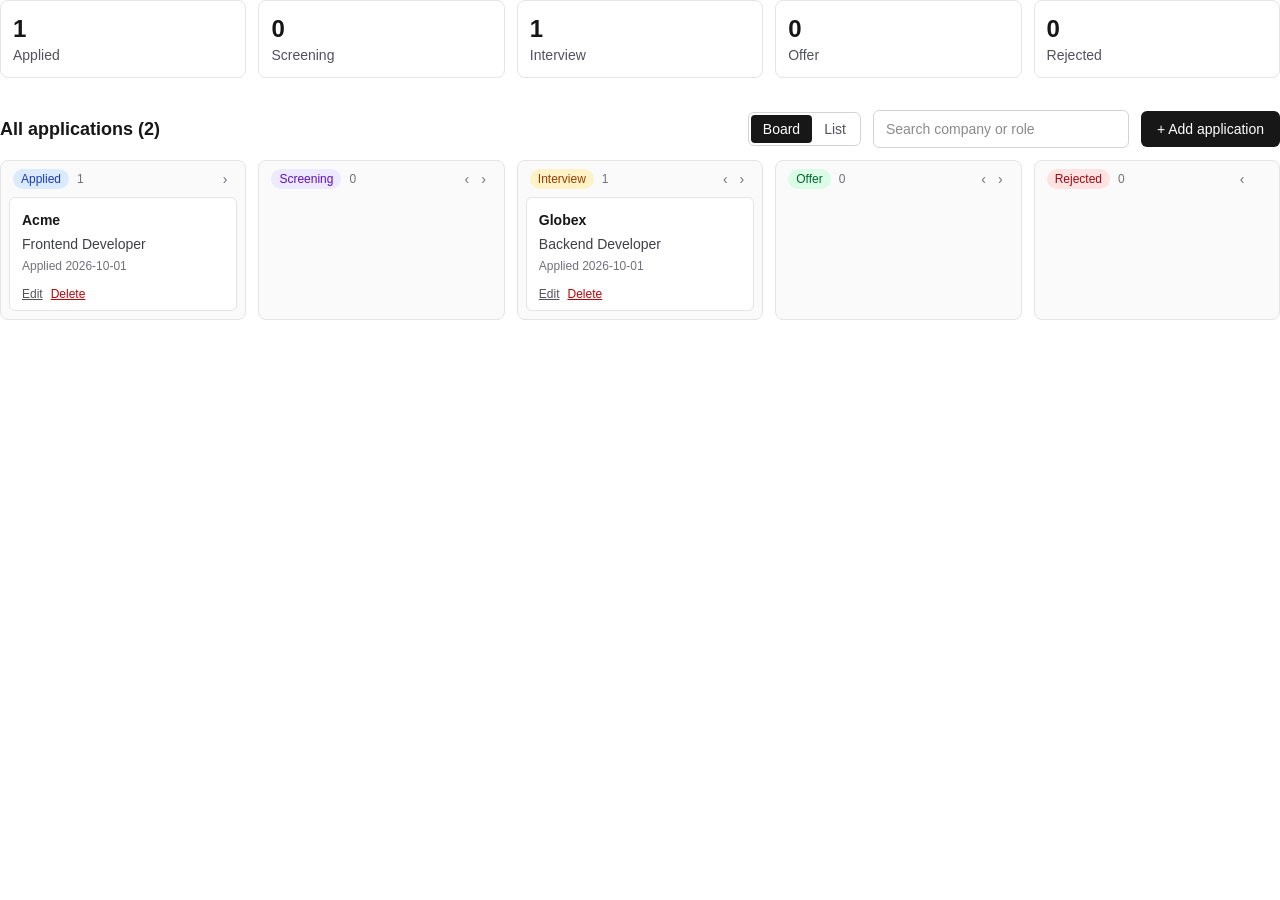
it: Fill from link › fills only the fields that are still empty
Click the button "+ Add application" at (1210, 129), box [1141,111,1279,147]
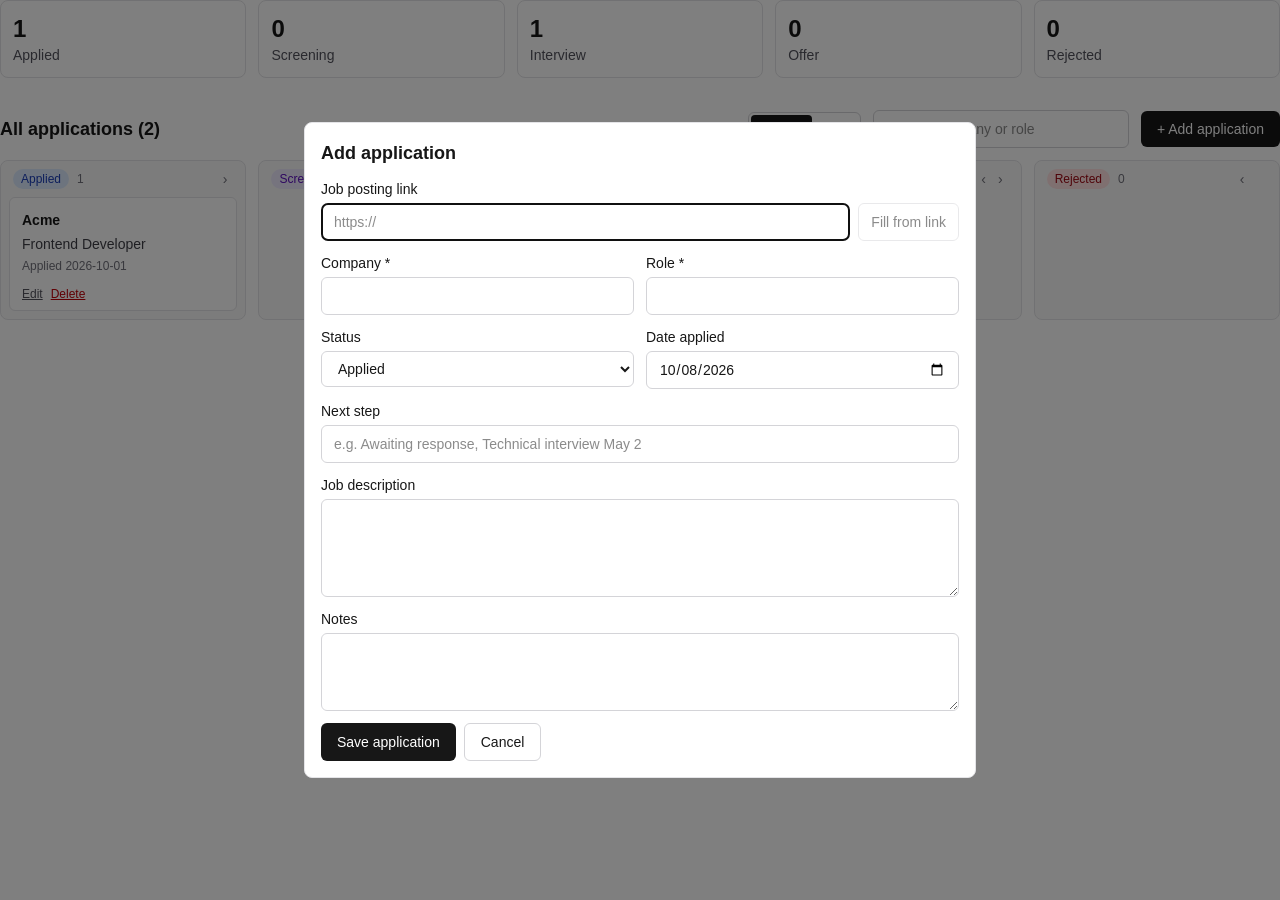
Type "My own name for it" into the field labelled "Company *" at (478, 296), box [321,277,634,315]
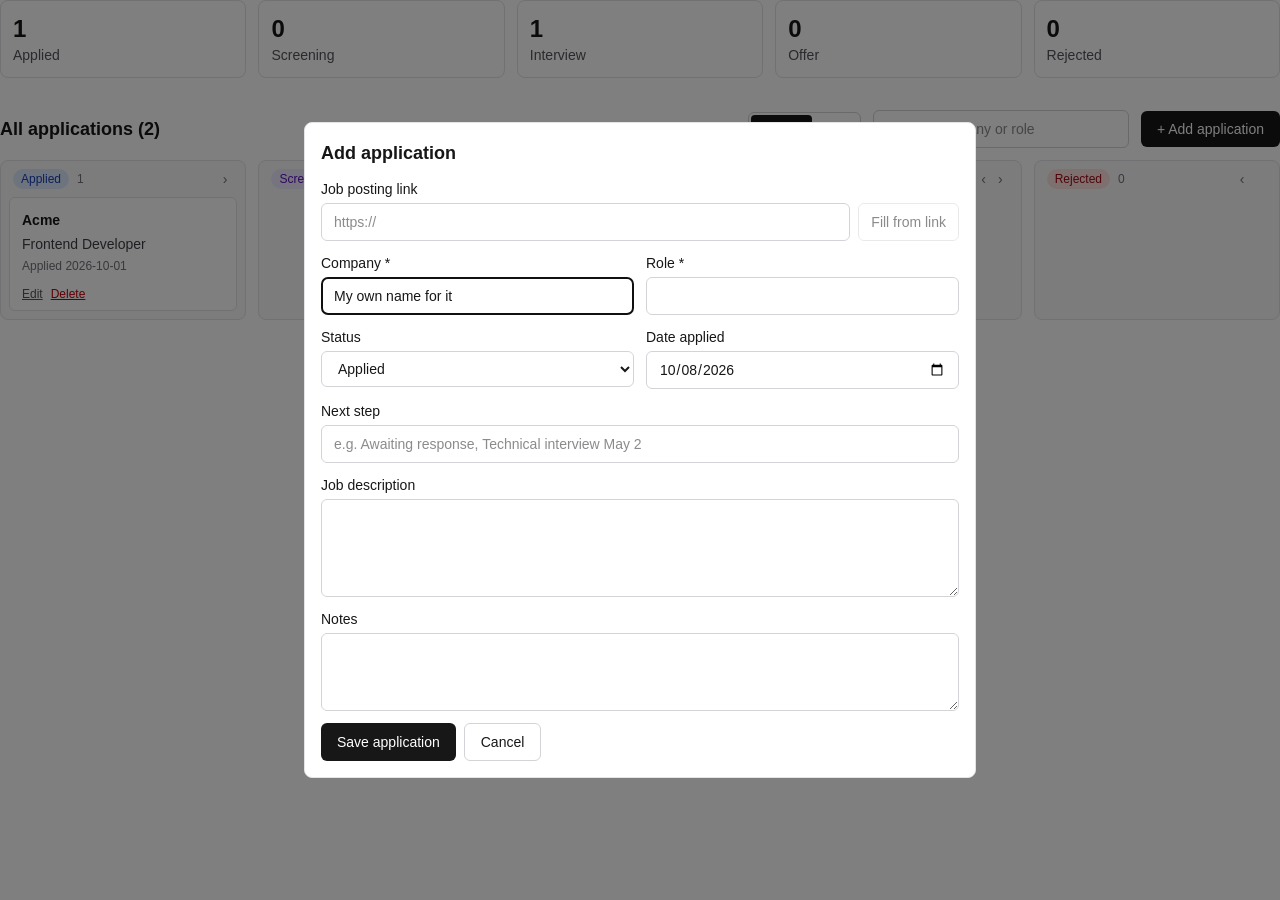
Type "https://jobs.jouwweb.nl/o/front-end-engineer" into the field labelled "Job posting link" at (586, 222), box [321,203,850,241]
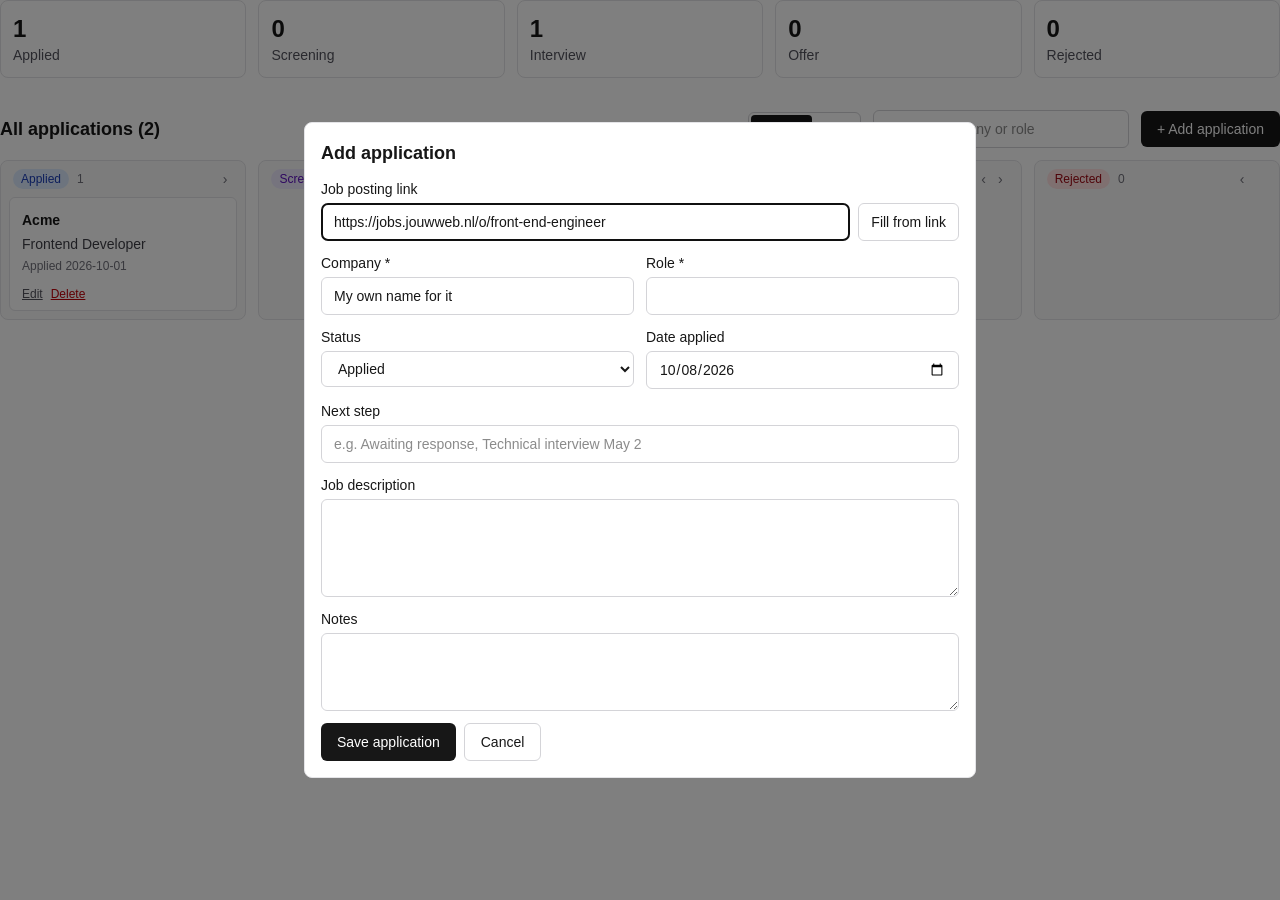
Click the button "Fill from link" at (909, 222), box [858,203,959,241]
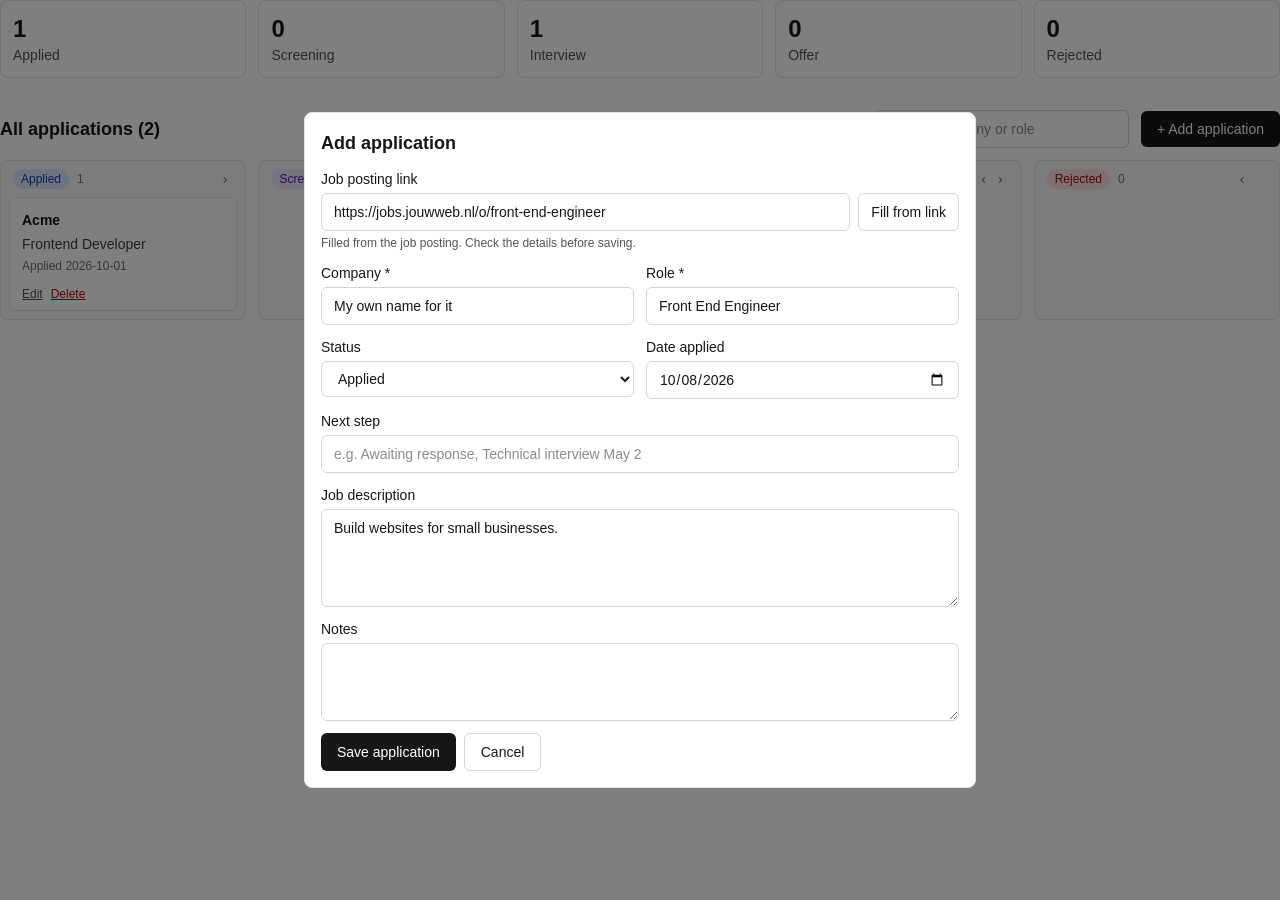
expect the message shows "Filled from the job posting": met, box [321,236,636,250]
expect the field labelled "Role *" holds "Front End Engineer": met, box [646,287,959,325]
expect the text box labelled "Job description" holds "Build websites for small businesses.": met, box [321,509,959,607]
